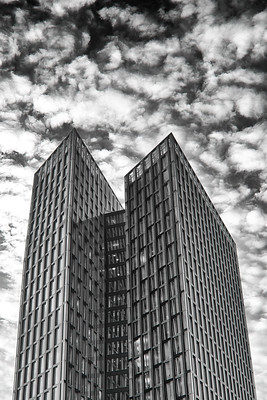low: (122, 129, 260, 400), (7, 127, 130, 400)
